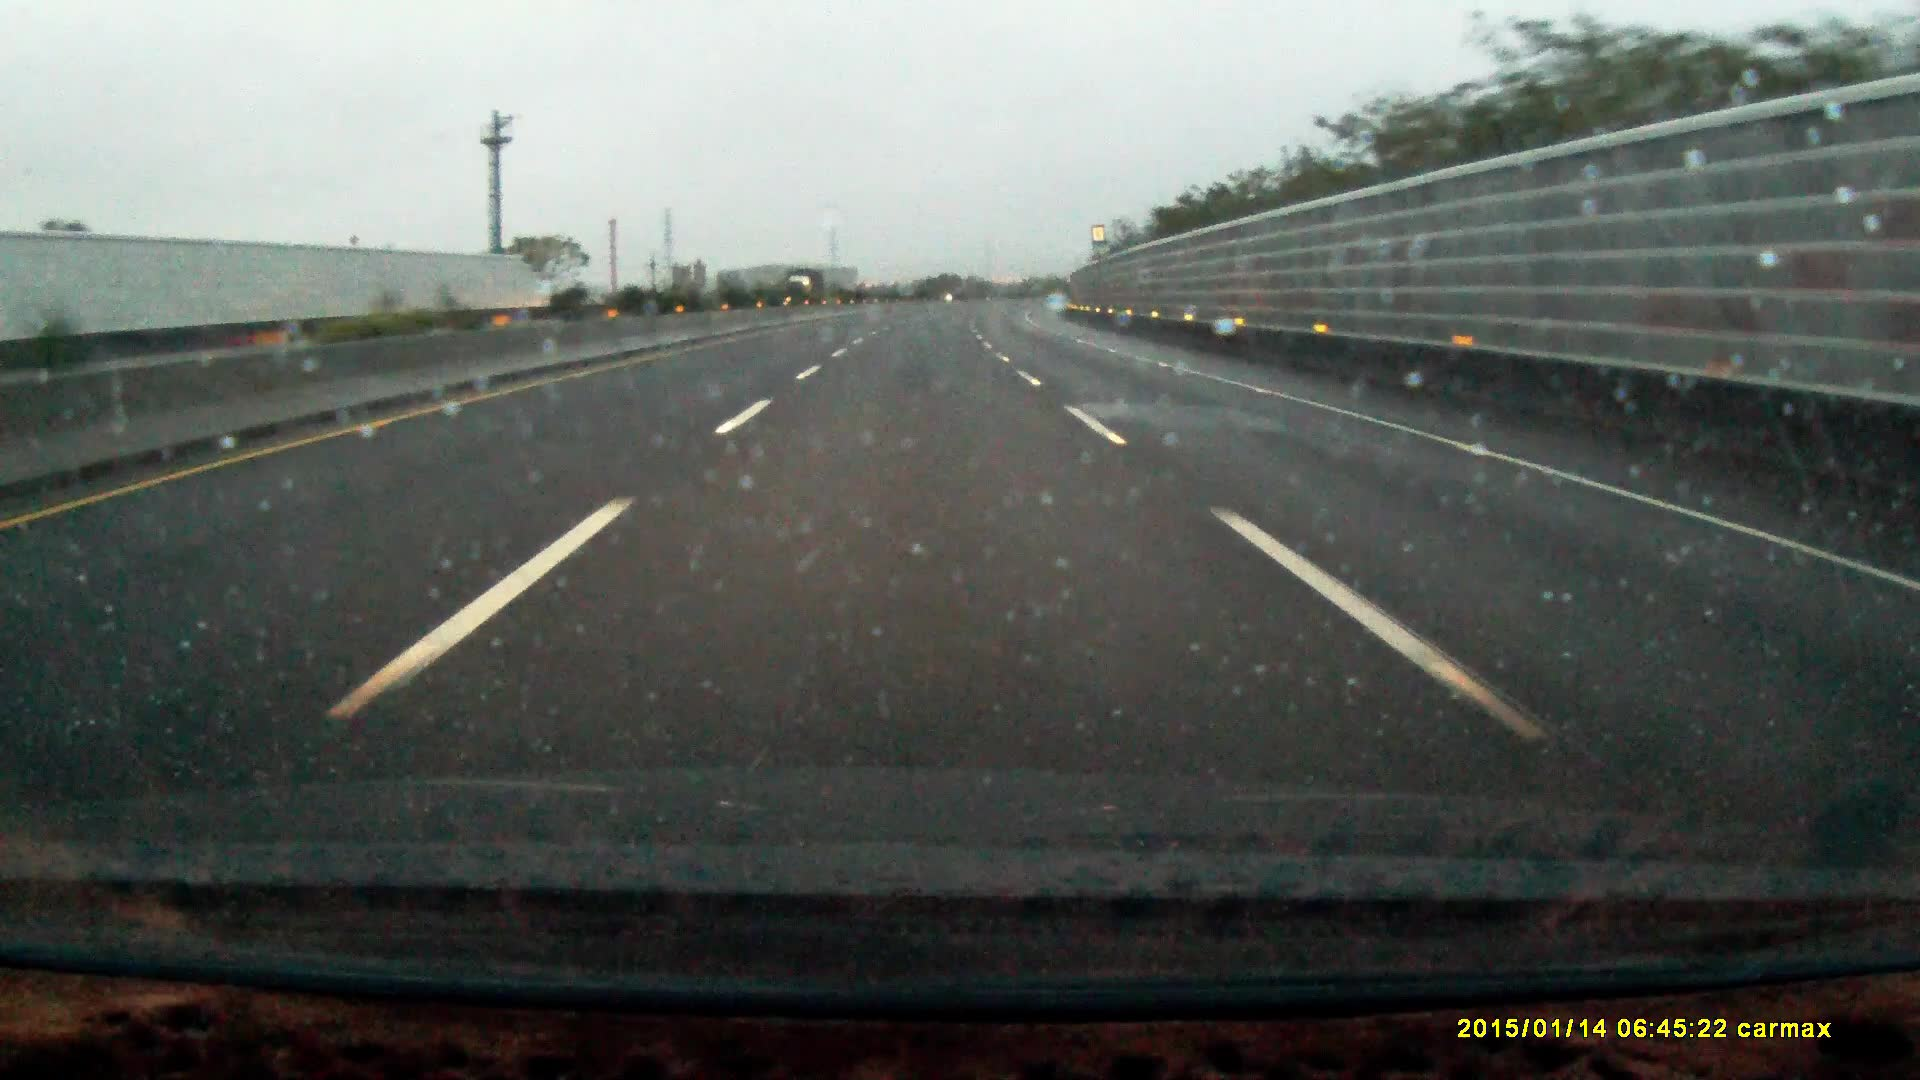vehicle: (785, 268, 825, 303)
